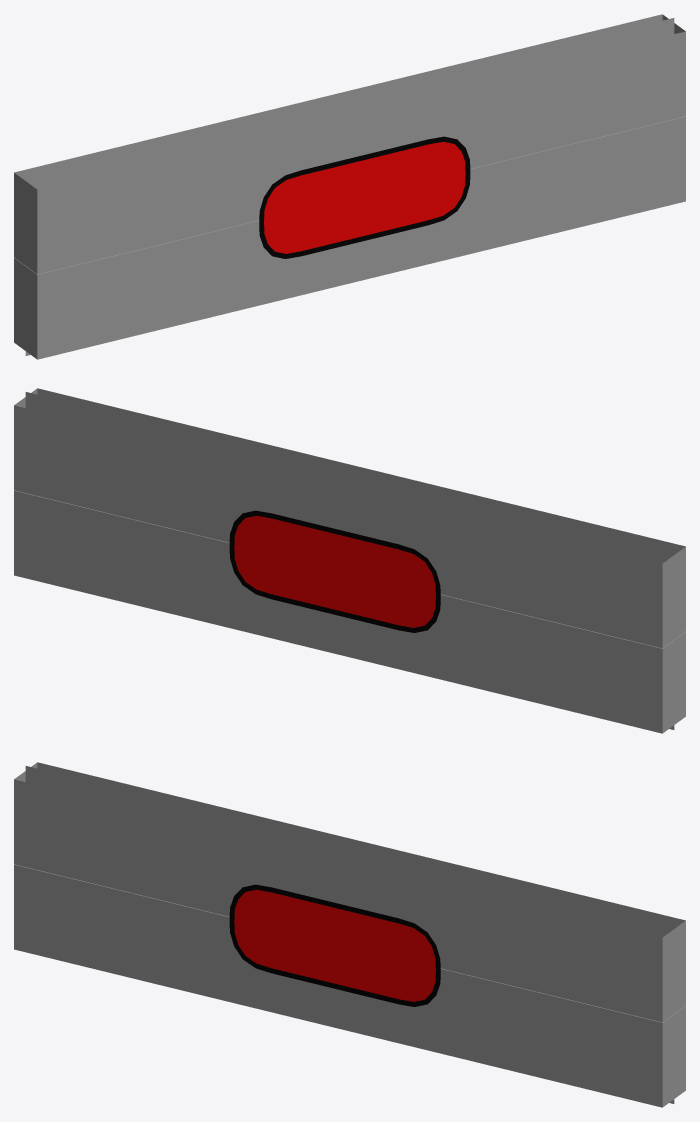
File: GhostMouth.fbx
The picture shows the model from 3 angles, top to bottom: view 1: azimuth 30°, elevation 25°; view 2: azimuth 150°, elevation 25°; view 3: azimuth 330°, elevation 25°; orthographic projection.
Parts seen in each view (by area): view 1: GhostTeeth_Mesh, GhostMouth_Mesh; view 2: GhostTeeth_Mesh, GhostMouth_Mesh; view 3: GhostTeeth_Mesh, GhostMouth_Mesh.
Boxes of the visible parts, bbox=[...] form: GhostTeeth_Mesh: bbox=[14, 14, 685, 359]; GhostMouth_Mesh: bbox=[259, 136, 470, 258]; GhostTeeth_Mesh: bbox=[14, 388, 685, 733]; GhostMouth_Mesh: bbox=[229, 510, 440, 632]; GhostTeeth_Mesh: bbox=[14, 762, 685, 1107]; GhostMouth_Mesh: bbox=[229, 884, 440, 1006].
Bounding box in the file's own units: 400 × 106 × 31.66.
